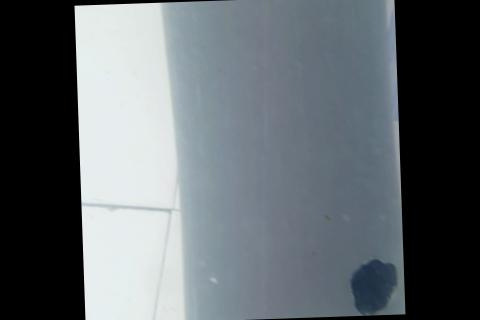kebocoran: (347, 255, 399, 316)
